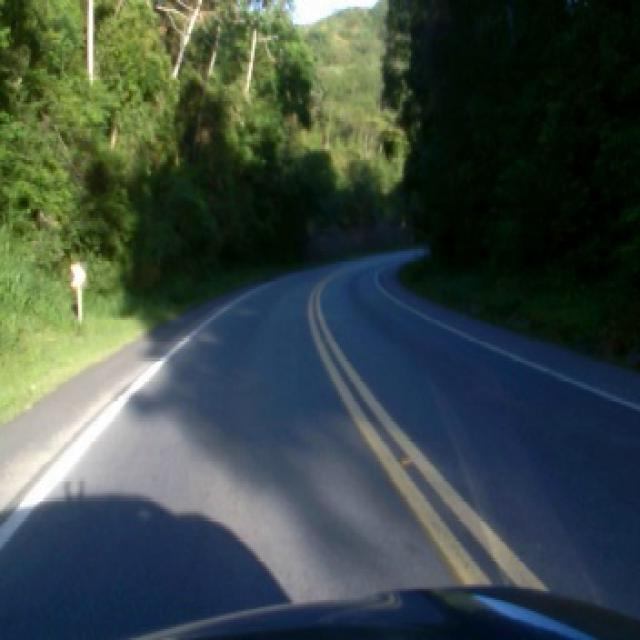Poth-hole: (404, 456, 416, 462)
